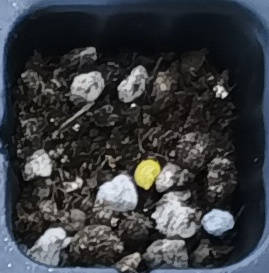pepper seed: (53, 63, 214, 254)
